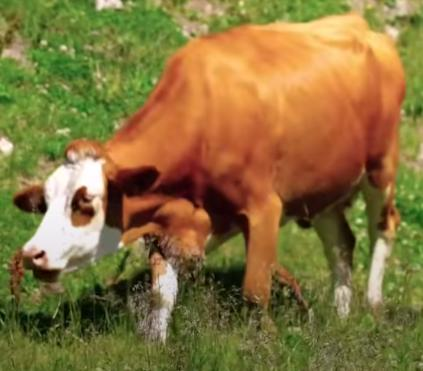cow: (11, 13, 407, 345)
